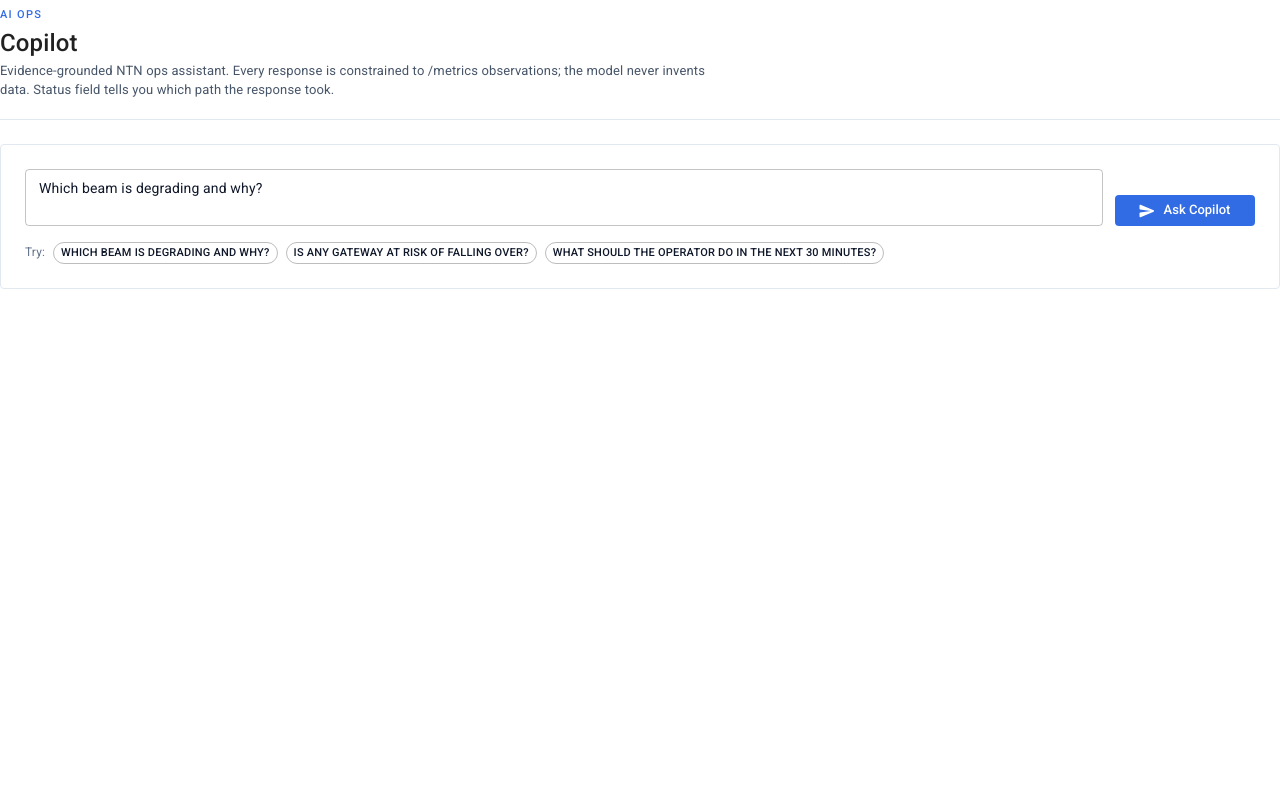
Test case: Copilot — VS-9b.4 sparkline wiring › does NOT render sparkline for gateway-keyed citations (no beam_id label)
Click the button "Ask Copilot": (1185, 211) [1115,196,1255,226]
(page scrolled)
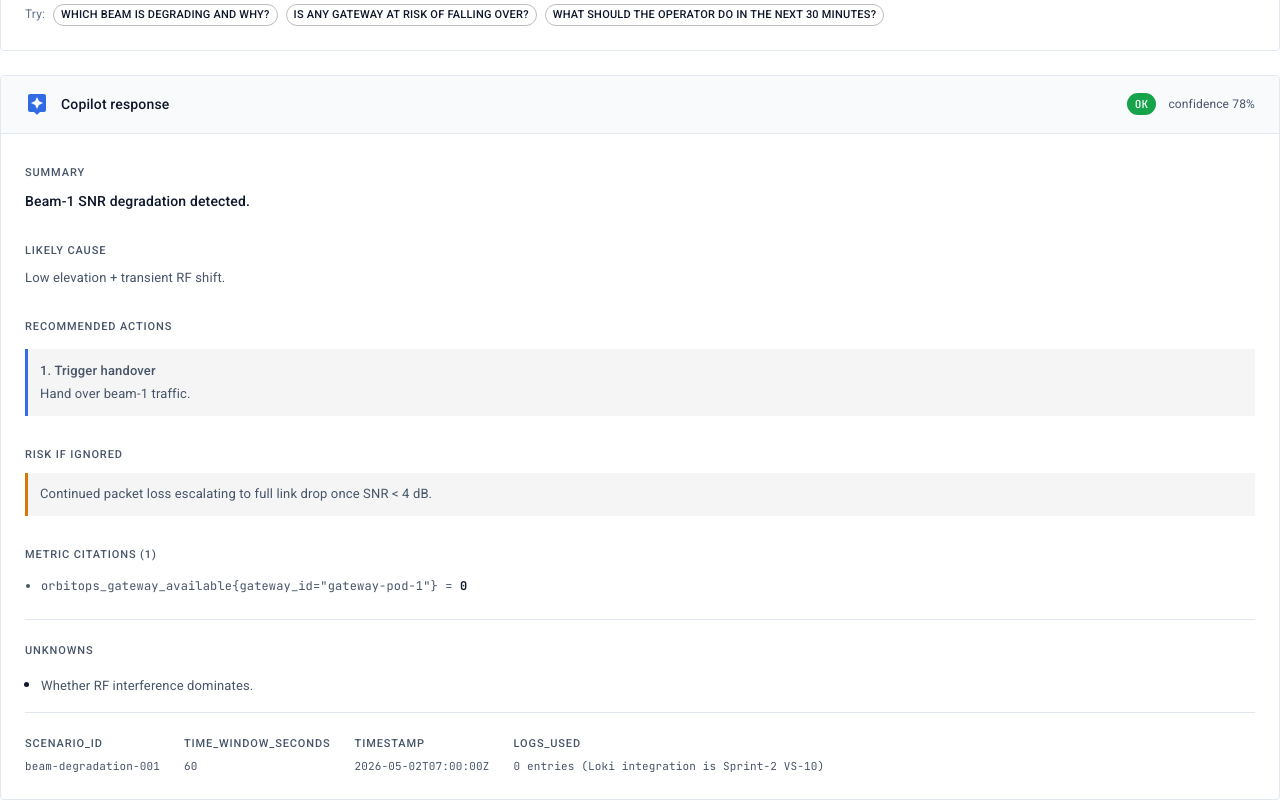
Result: the text "orbitops_gateway_available{gateway_id=\"gateway-pod-1\"} = 0" is shown at [41,578,467,594]
